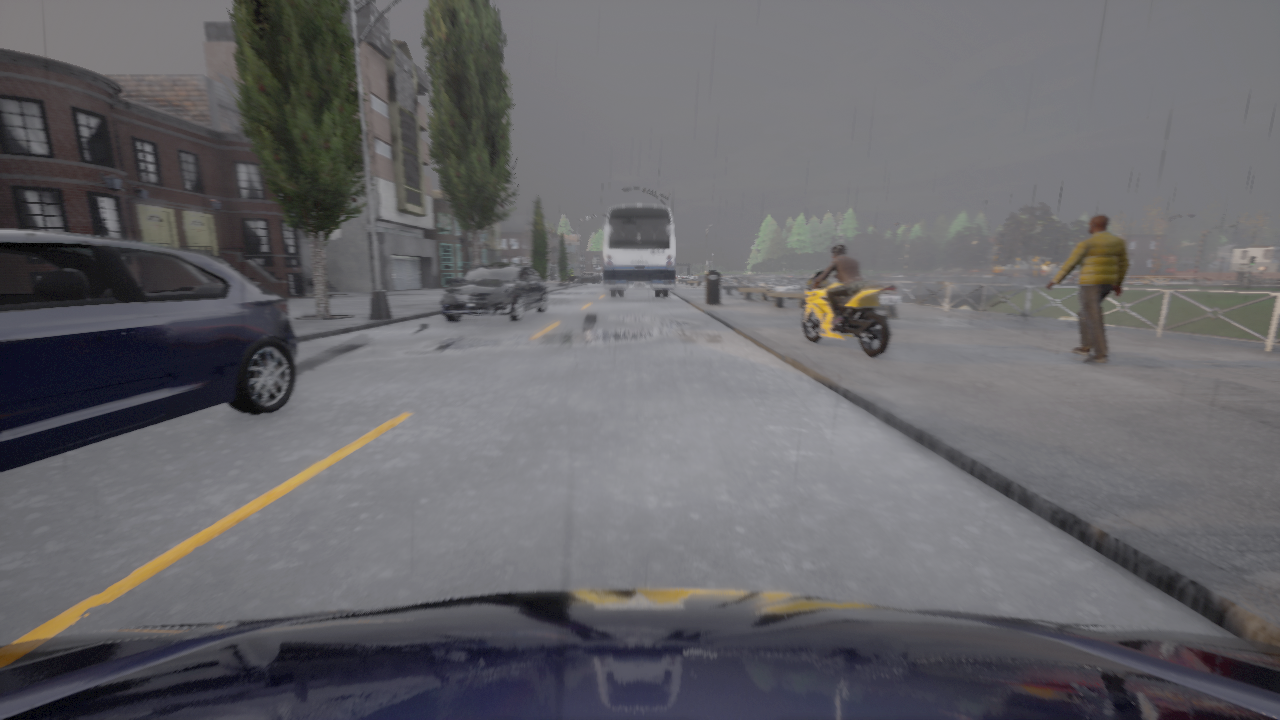cyclist: (0, 588, 1279, 719), (796, 269, 901, 357), (604, 204, 675, 297), (440, 263, 547, 321), (575, 272, 601, 282), (786, 271, 809, 276)
pedestrian: (1046, 214, 1130, 362)
